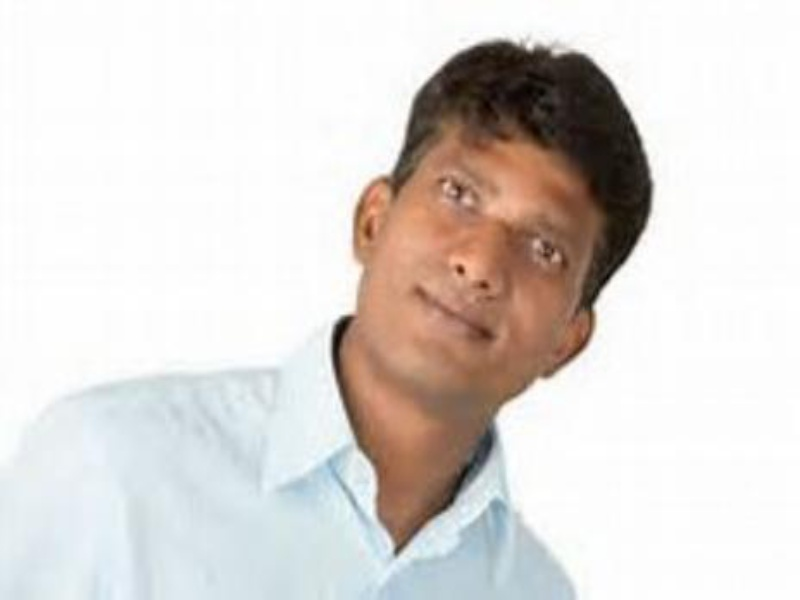TsisyArotava: (333, 55, 637, 429)
